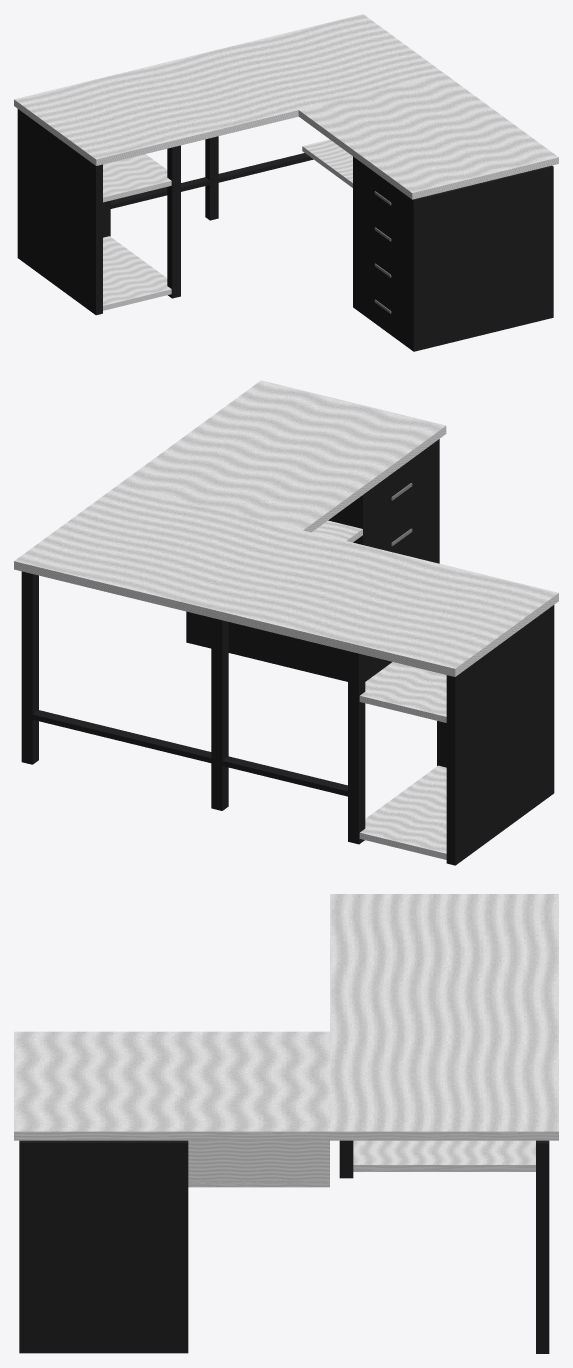
3 renders of one model, top to bottom at view 1: azimuth 30°, elevation 25°; view 2: azimuth 150°, elevation 25°; view 3: azimuth 270°, elevation 25°, orthographic. The views are drawn at different scales.
Parts seen in each view (by area): view 1: 13 drawer_cabinet_frame, 1 main_desktop, 2 return_desktop, 3 left_pegboard_panel, 4 cpu_stand_bottom_shelf, 5 cpu_stand_mid_shelf, 6 left_front_leg, 10 back_lower_crossbar, 11 return_under_shelf, 8 back_center_leg; view 2: 1 main_desktop, 2 return_desktop, 3 left_pegboard_panel, 13 drawer_cabinet_frame, 4 cpu_stand_bottom_shelf, 5 cpu_stand_mid_shelf, 10 back_lower_crossbar, 9 back_right_leg, 8 back_center_leg, 7 left_back_leg, 11 return_under_shelf; view 3: 1 main_desktop, 13 drawer_cabinet_frame, 2 return_desktop, 12 return_shelf_back_panel, 4 cpu_stand_bottom_shelf, 9 back_right_leg, 11 return_under_shelf, 6 left_front_leg.
Boxes of the visible parts, <box> form: 13 drawer_cabinet_frame: <box>353,156,553,351</box>; 1 main_desktop: <box>14,14,444,165</box>; 2 return_desktop: <box>298,74,558,199</box>; 3 left_pegboard_panel: <box>17,109,102,315</box>; 4 cpu_stand_bottom_shelf: <box>103,236,171,310</box>; 5 cpu_stand_mid_shelf: <box>103,154,171,202</box>; 6 left_front_leg: <box>167,145,180,298</box>; 10 back_lower_crossbar: <box>110,153,313,208</box>; 11 return_under_shelf: <box>302,139,352,187</box>; 8 back_center_leg: <box>205,136,218,220</box>; 1 main_desktop: <box>14,485,558,676</box>; 2 return_desktop: <box>118,380,446,532</box>; 3 left_pegboard_panel: <box>446,605,554,865</box>; 13 drawer_cabinet_frame: <box>186,439,439,681</box>; 4 cpu_stand_bottom_shelf: <box>359,765,446,859</box>; 5 cpu_stand_mid_shelf: <box>359,662,446,722</box>; 10 back_lower_crossbar: <box>31,710,348,796</box>; 9 back_right_leg: <box>21,571,38,764</box>; 8 back_center_leg: <box>211,617,228,810</box>; 7 left_back_leg: <box>348,651,365,844</box>; 11 return_under_shelf: <box>312,520,362,542</box>; 1 main_desktop: <box>330,894,558,1140</box>; 13 drawer_cabinet_frame: <box>19,1140,188,1353</box>; 2 return_desktop: <box>14,1031,329,1140</box>; 12 return_shelf_back_panel: <box>188,1140,329,1183</box>; 4 cpu_stand_bottom_shelf: <box>353,1140,535,1171</box>; 9 back_right_leg: <box>536,1140,549,1353</box>; 11 return_under_shelf: <box>188,1180,329,1187</box>; 6 left_front_leg: <box>339,1140,353,1178</box>.
Bounding box in the file's own units: 2.27 × 1 × 2.2.
4 materials, 2 textured.
